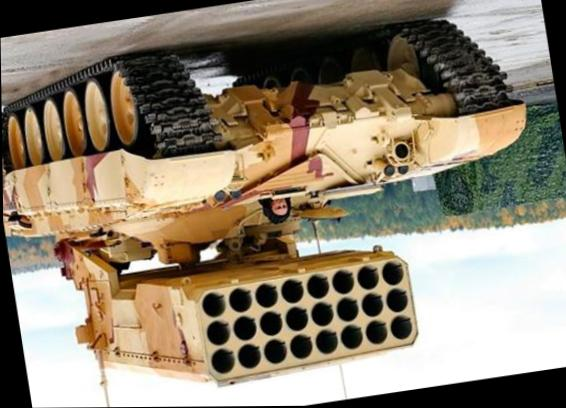rszo: (0, 9, 565, 408)
